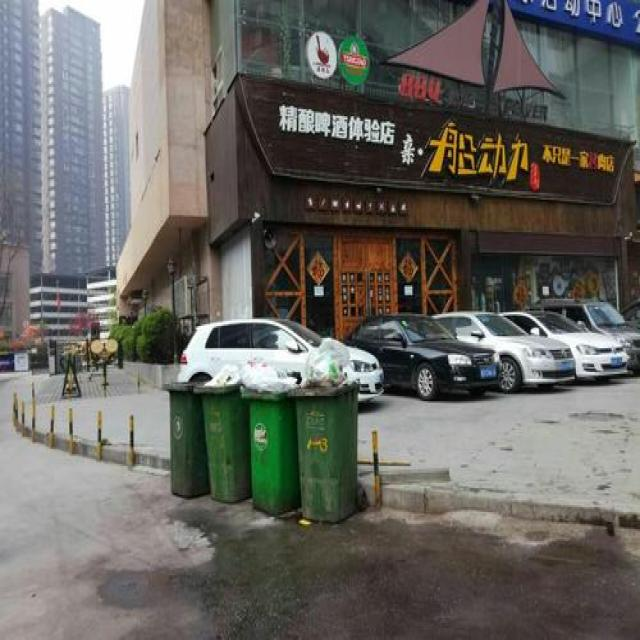garbage_bin: (162, 379, 208, 497)
overflow: (289, 336, 360, 521), (240, 362, 300, 512), (190, 365, 250, 502)
